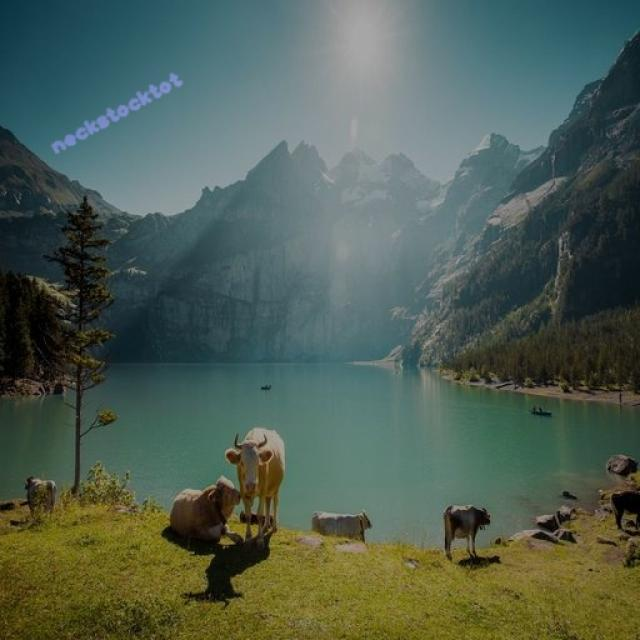watermark: (50, 68, 183, 156)
